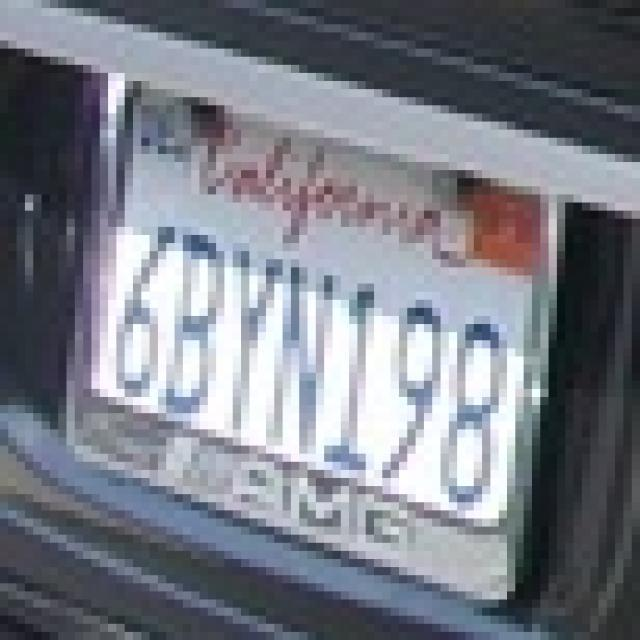licenseplate: (44, 33, 588, 615)
